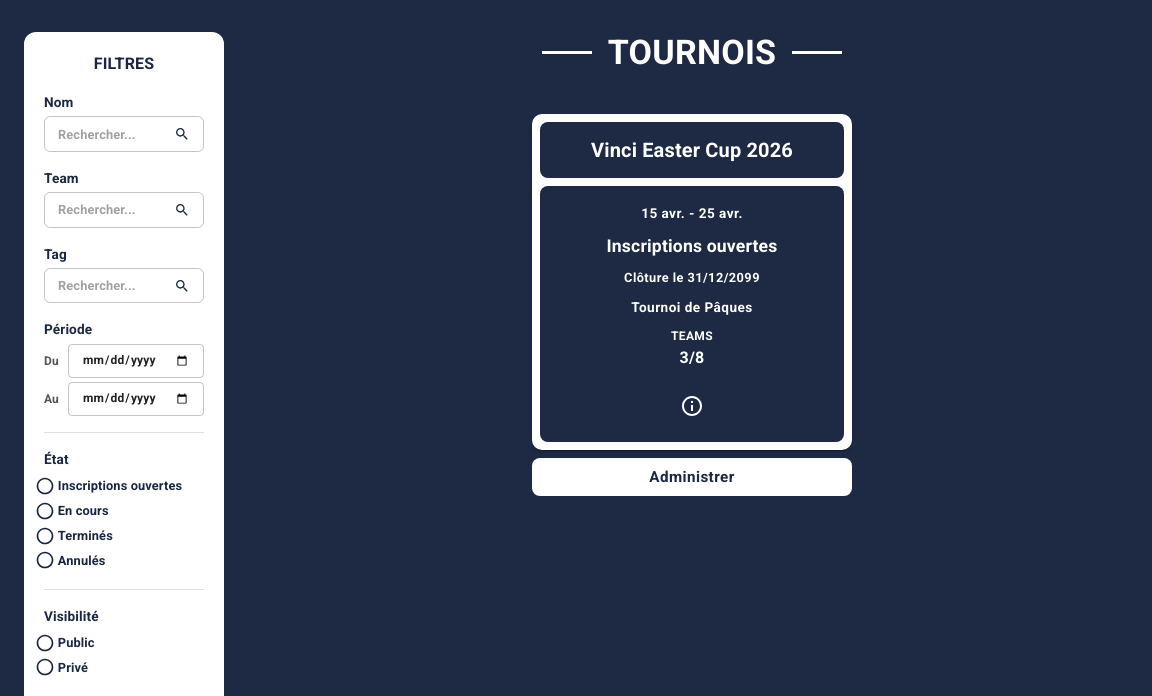
Test: TournamentsPage › la flèche retour depuis TournamentAdminPage revient à la liste
expect the heading "Vinci Easter Cup 2026" is shown: met, box x1=591 y1=138 x2=793 y2=162
Step 1. Click the button "Administrer" → point(692, 477), box x1=532 y1=458 x2=852 y2=496
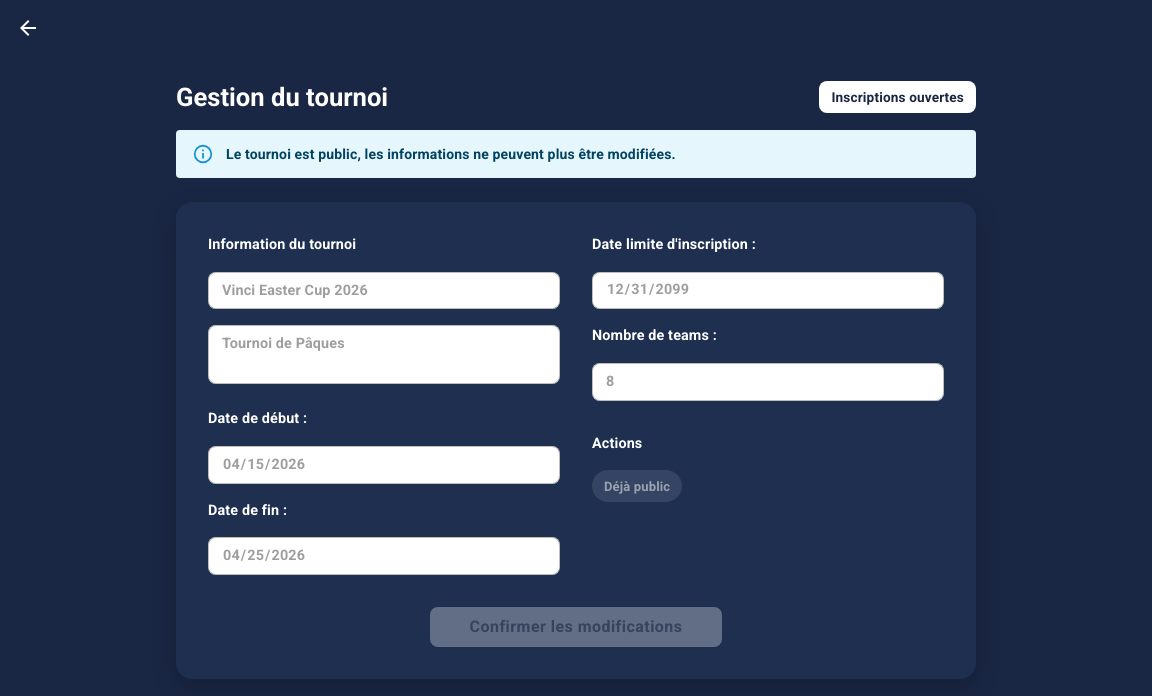
expect the heading "Gestion du tournoi" is shown: met, box x1=176 y1=80 x2=388 y2=114
Step 2. Click the 1st button → point(28, 28), box x1=8 y1=8 x2=48 y2=48
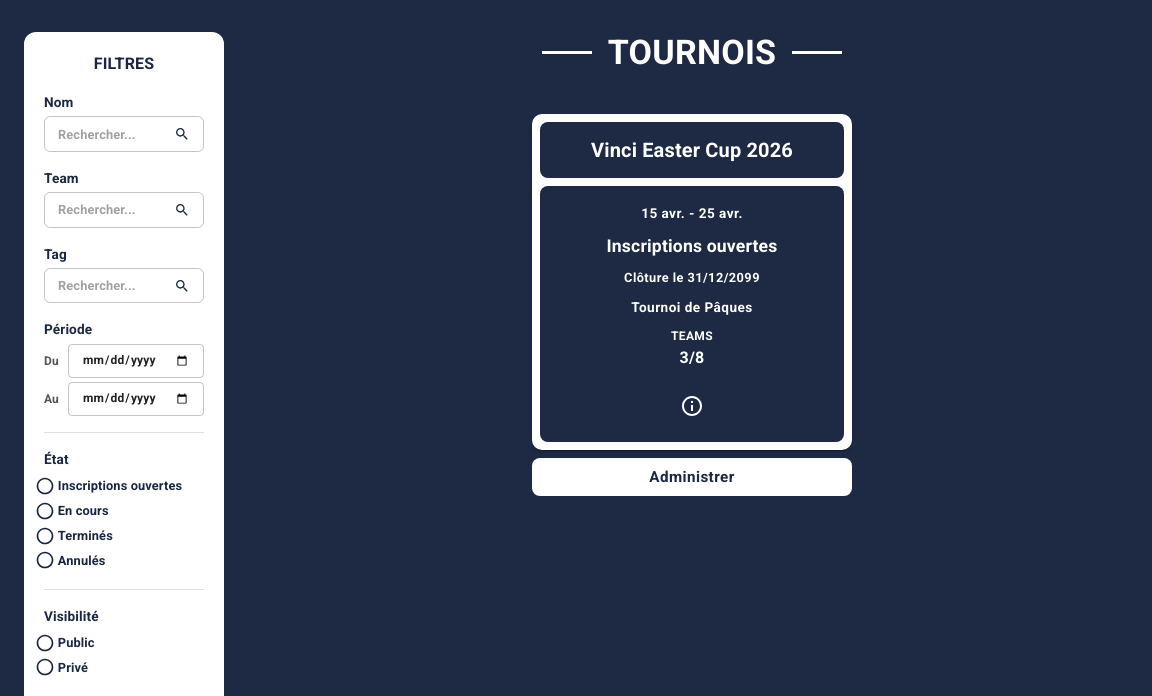
expect the heading "Vinci Easter Cup 2026" is shown: met, box x1=591 y1=138 x2=793 y2=162
